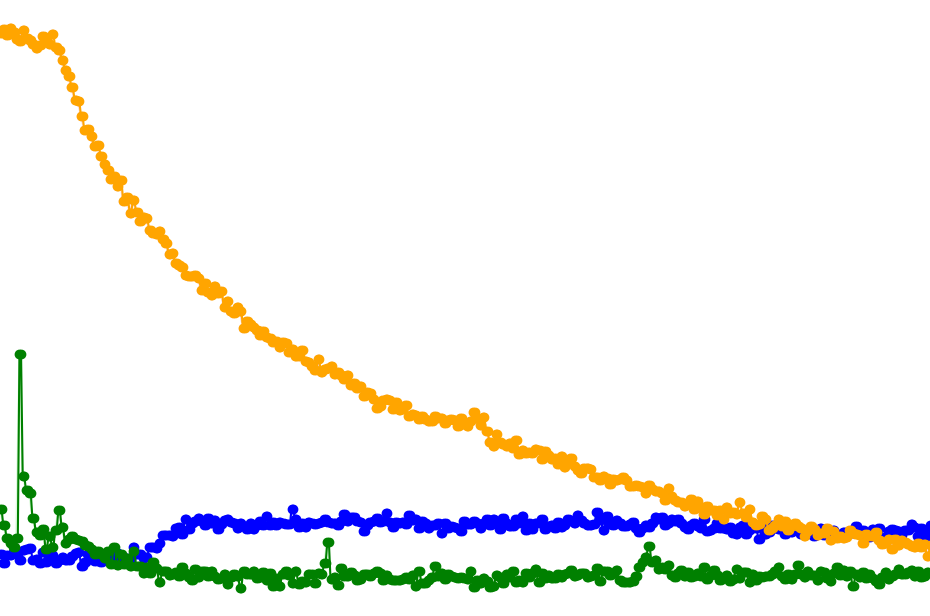Condensation (CO2): (77, 0, 194, 616)
High O2: (388, 0, 930, 616), (311, 0, 388, 616)
Low CO2: (388, 0, 930, 616), (77, 0, 388, 616), (194, 0, 311, 616), (0, 0, 77, 616), (311, 0, 388, 616)
Normal: (0, 0, 930, 616), (388, 0, 930, 616), (77, 0, 388, 616), (77, 0, 194, 616), (194, 0, 311, 616), (0, 0, 77, 616), (311, 0, 388, 616)
O2 Problem: (388, 0, 930, 616)
